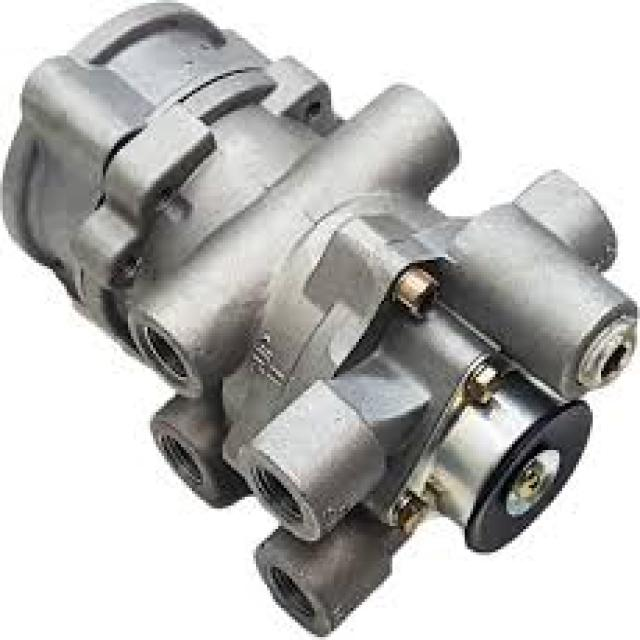video_frame: (2, 1, 640, 640)
